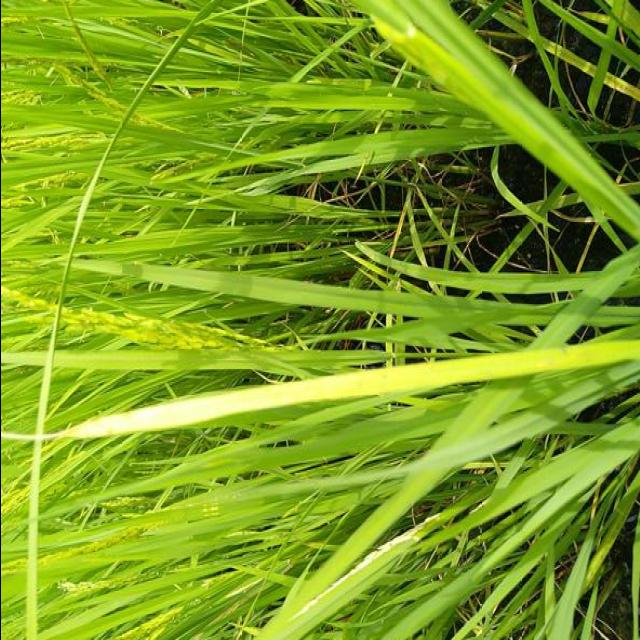Leaf Blight: (0, 382, 315, 440)
